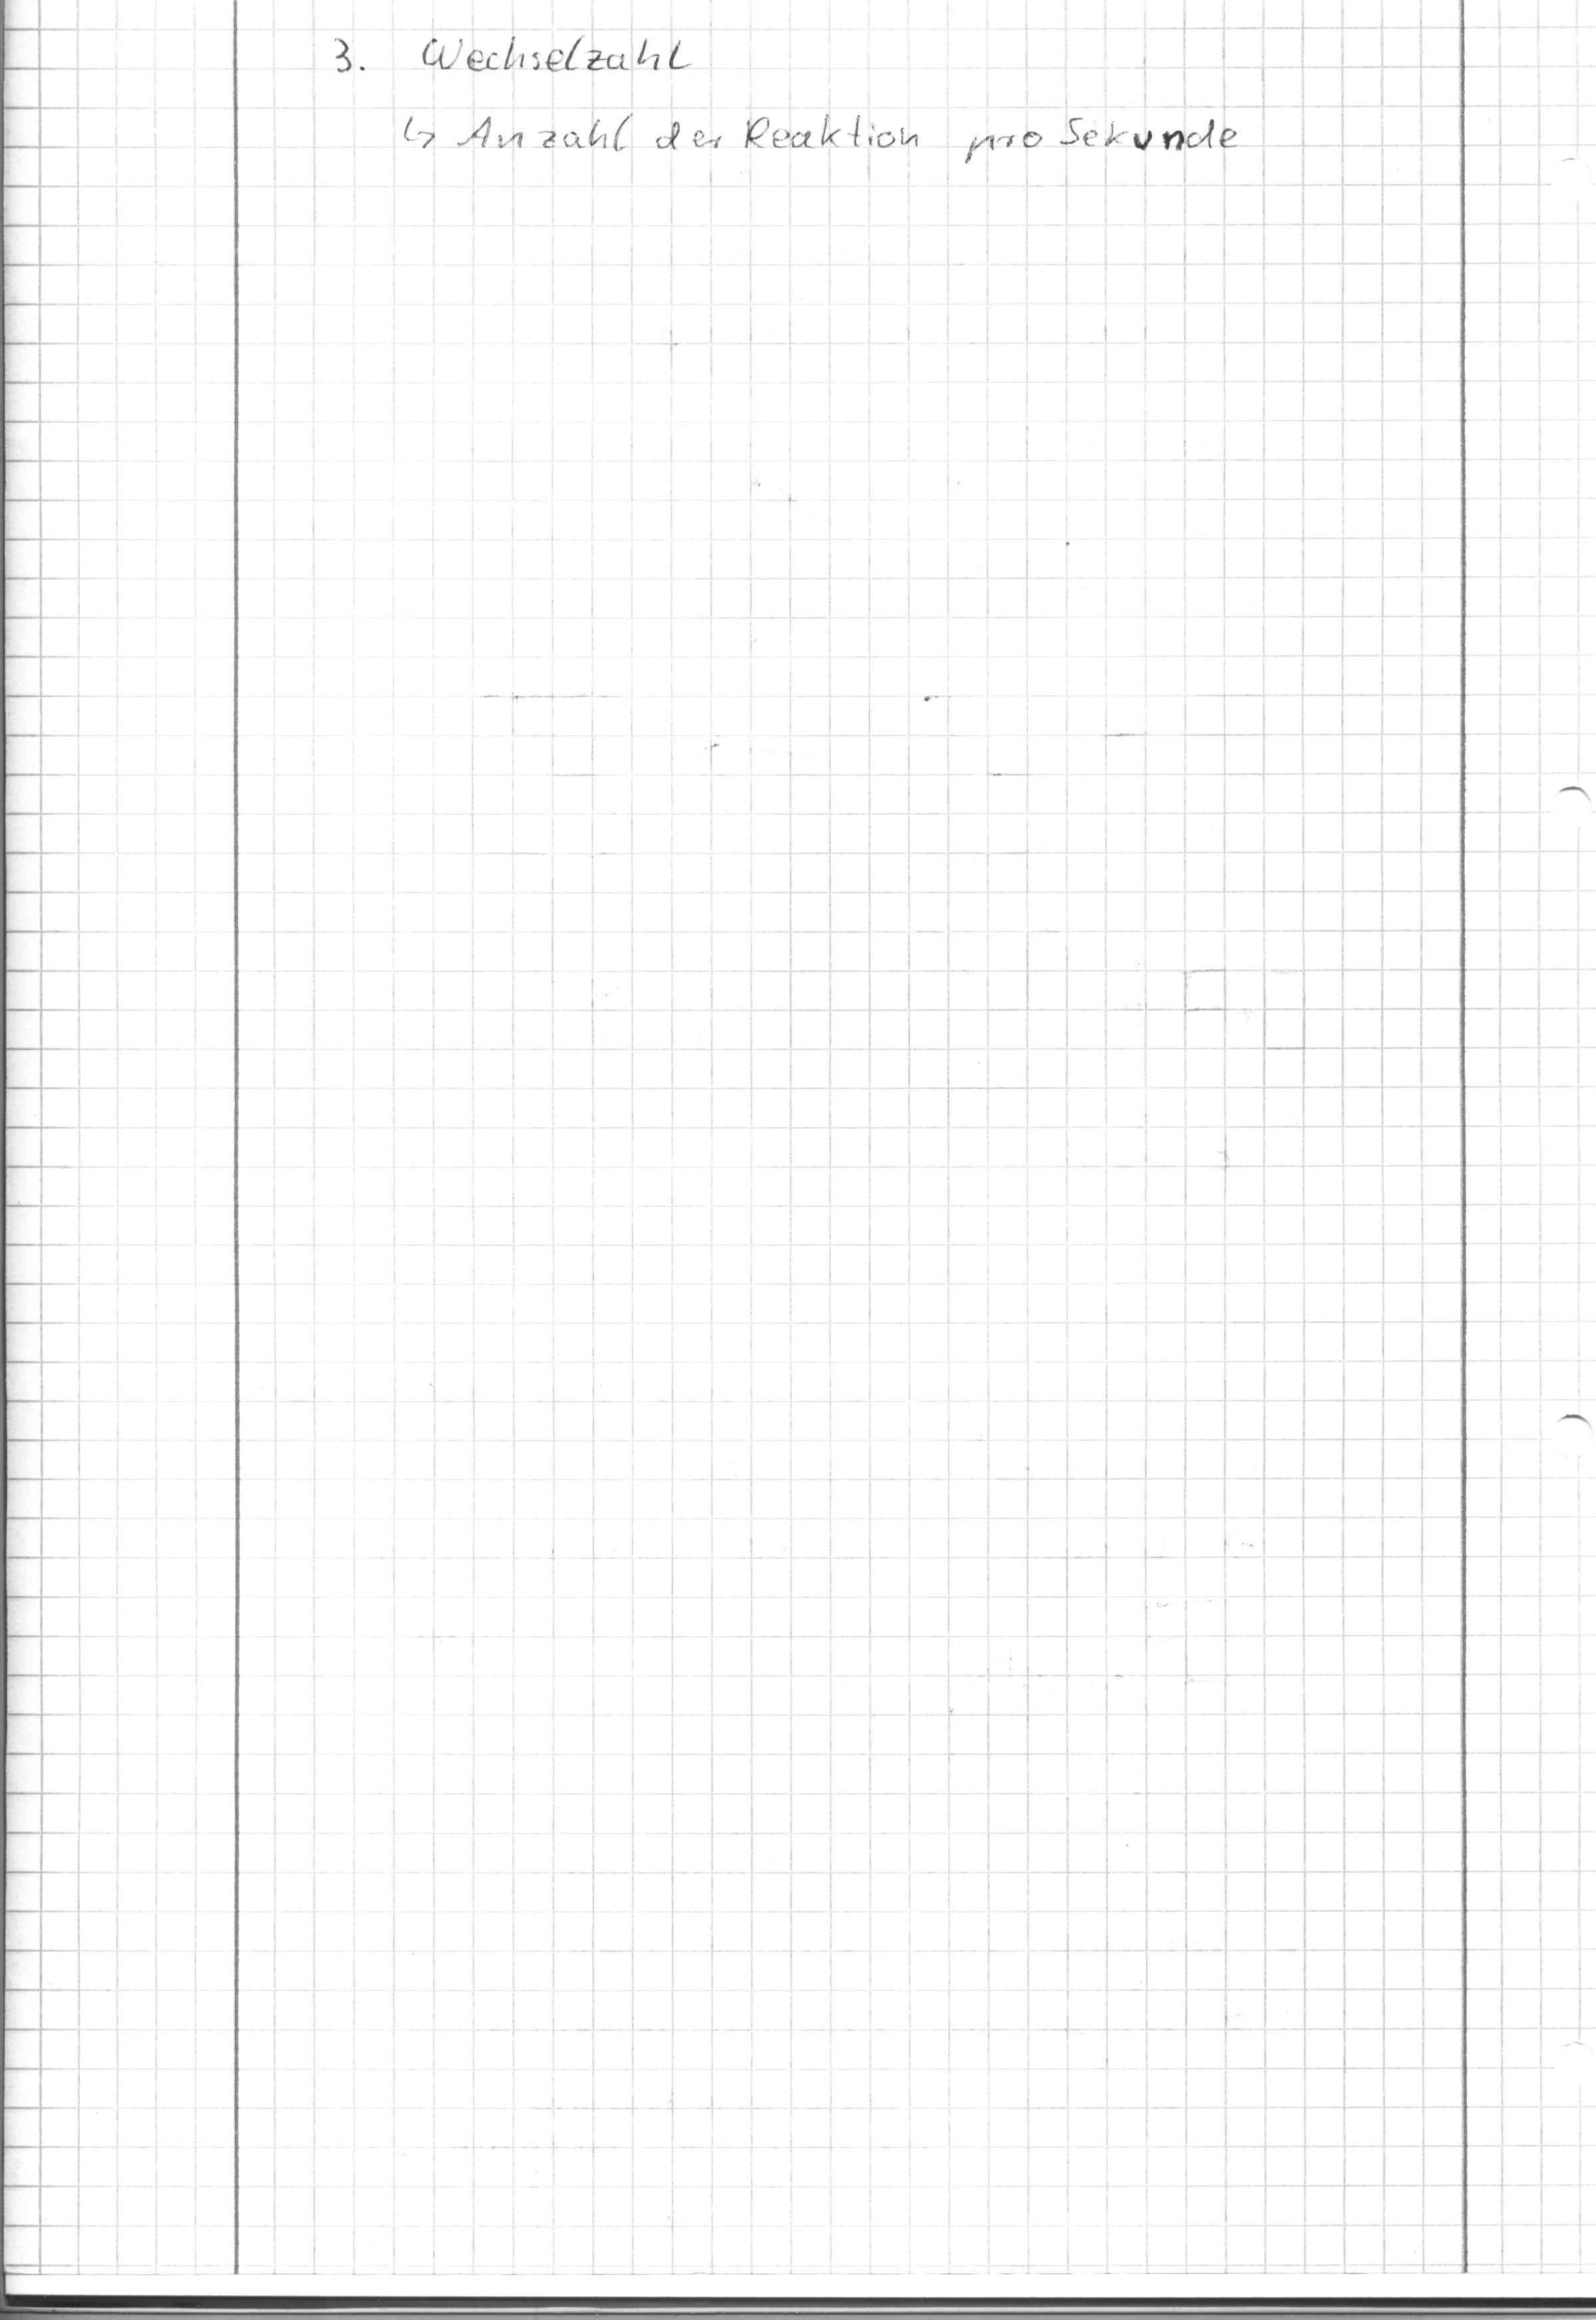word: (318, 24, 1258, 174)
